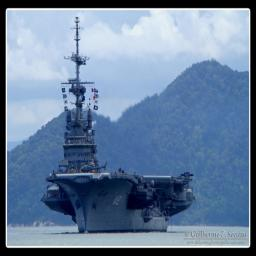Portanaves: (41, 15, 199, 236)
